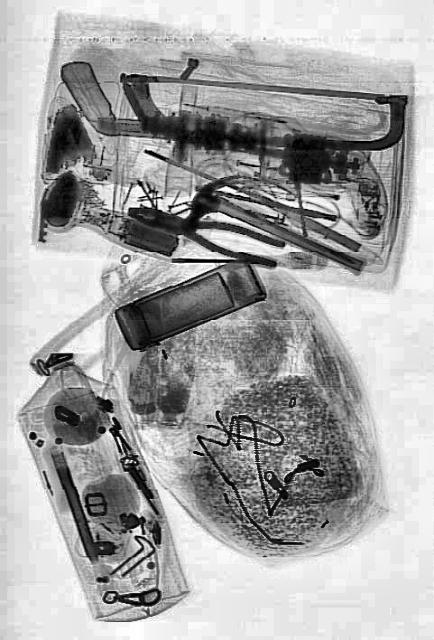Pliers: (124, 192, 286, 272)
